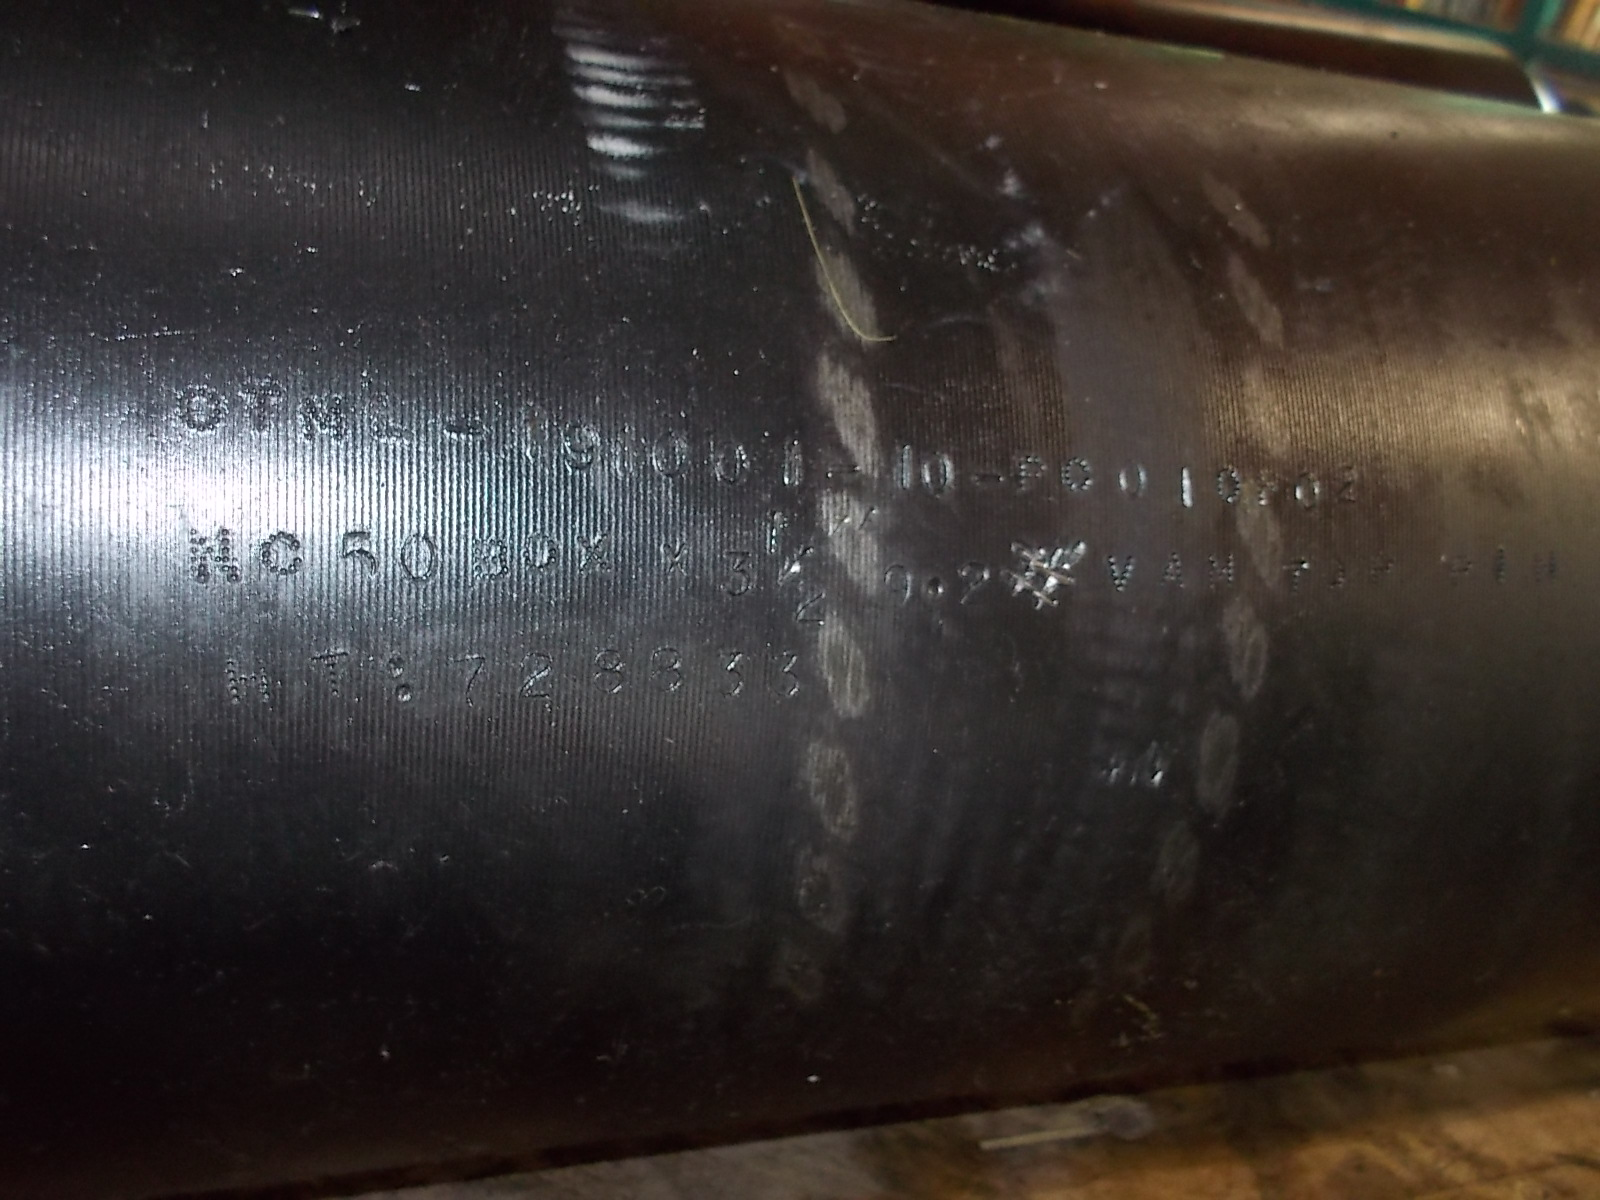character: (1002, 534, 1091, 625), (204, 645, 280, 721), (176, 514, 243, 599), (304, 626, 365, 712), (505, 642, 569, 708), (947, 557, 1008, 624), (233, 376, 289, 447), (165, 379, 227, 444), (387, 528, 449, 591), (252, 518, 314, 580), (363, 387, 422, 449), (296, 393, 351, 455), (442, 642, 488, 716), (1199, 536, 1249, 603), (334, 518, 380, 587), (557, 413, 598, 490), (762, 640, 806, 712), (787, 574, 838, 635), (640, 639, 694, 695), (1060, 440, 1100, 512), (876, 557, 921, 619), (648, 421, 689, 484), (714, 543, 755, 608), (771, 537, 821, 587), (711, 640, 748, 707), (465, 529, 509, 586), (590, 643, 632, 701), (566, 533, 621, 577), (380, 644, 417, 710), (436, 411, 501, 447), (918, 445, 957, 505), (1099, 546, 1140, 603), (520, 527, 563, 581), (653, 533, 698, 579), (1119, 454, 1157, 505), (1017, 447, 1054, 495), (1293, 471, 1328, 521), (896, 430, 921, 497), (1157, 550, 1193, 595), (760, 504, 792, 555), (1216, 463, 1250, 511), (1335, 466, 1371, 511), (821, 456, 867, 487), (964, 468, 1012, 494)
